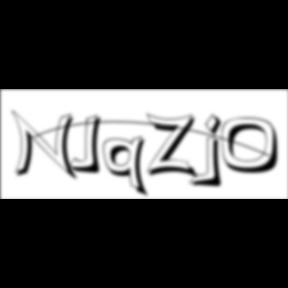J: (70, 114, 108, 176)
N: (12, 109, 82, 183)
O: (222, 117, 286, 176)
Z: (146, 112, 201, 181)
j: (202, 113, 228, 191)
q: (104, 135, 152, 200)
